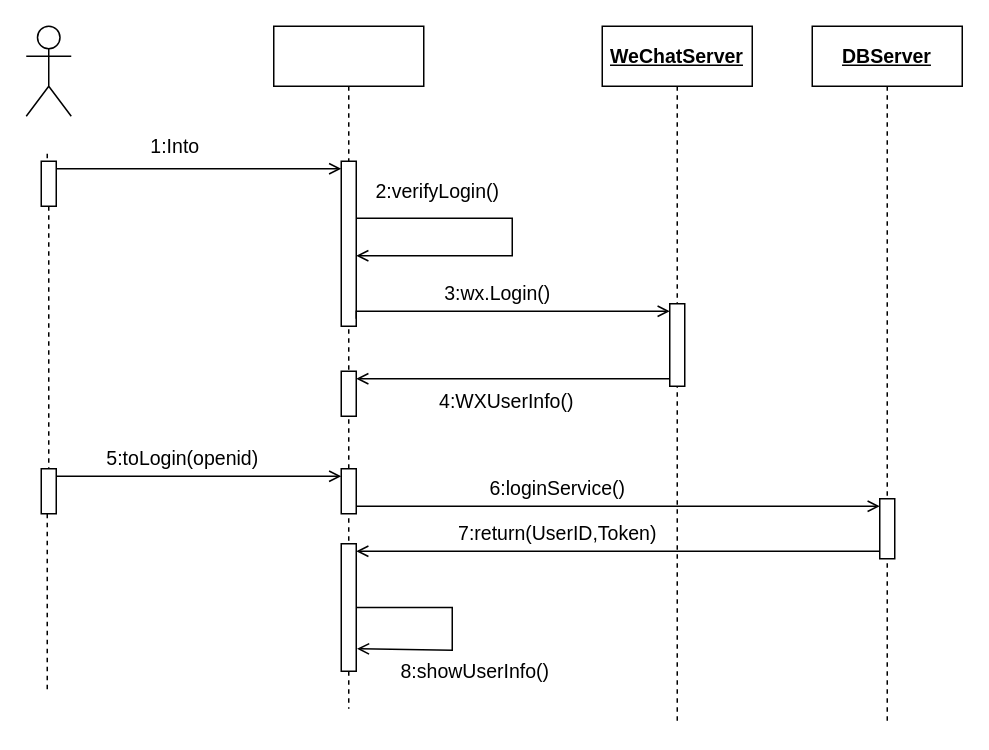
Image size: 989x750. Some labels were removed from this diagram. Each missing label, with the box of its shape:
:User: (25, 25, 71, 116)
Login page: (272, 25, 424, 709)
